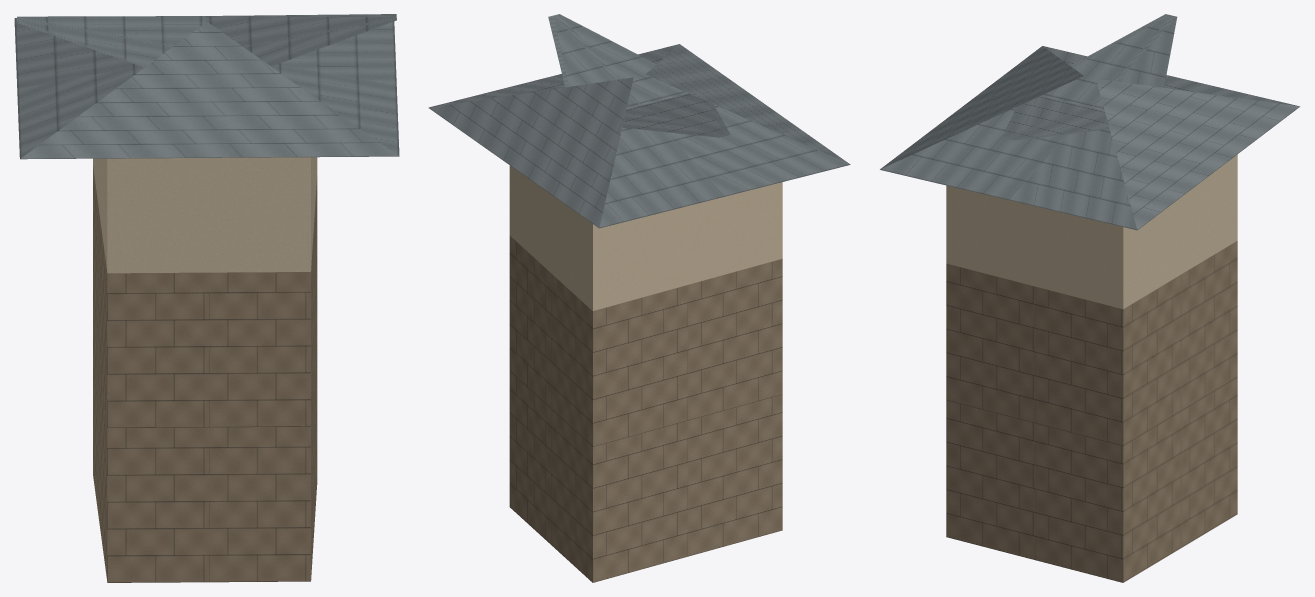
File: bld_c0_31_564.gltf
The picture shows the model from 3 angles, left to right: view 1: azimuth 30°, elevation 25°; view 2: azimuth 150°, elevation 25°; view 3: azimuth 270°, elevation 25°; orthographic projection. The views are drawn at different scales.
Parts seen in each view (by area): view 1: bld_c0_31_564; view 2: bld_c0_31_564; view 3: bld_c0_31_564.
Part boxes in pixels (x1,y1,x2,y2): bld_c0_31_564: (14,14,399,582); bld_c0_31_564: (428,14,850,582); bld_c0_31_564: (880,14,1300,582).
Bounding box in the file's own units: 6.51 × 7.4 × 6.28.
3 materials, 3 textured.
